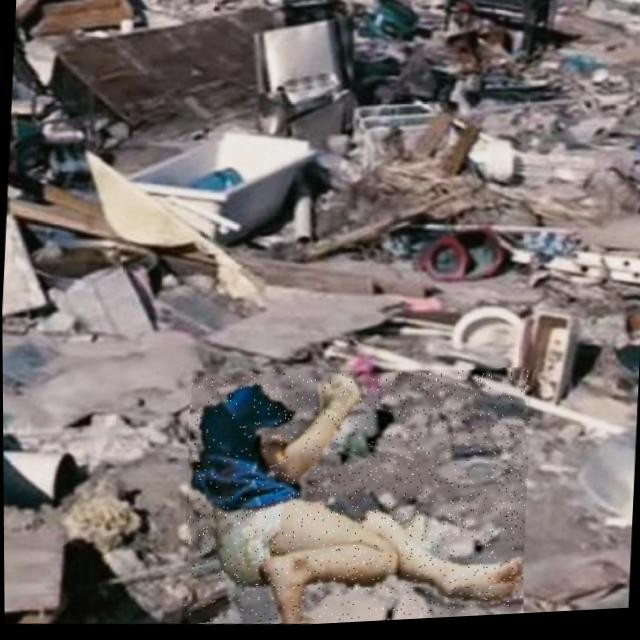Person in Rubble: (178, 358, 533, 633)
